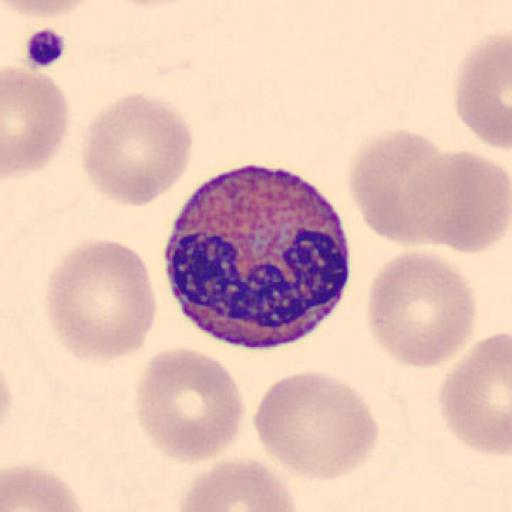RBC: (43, 237, 158, 362), (252, 370, 380, 482), (365, 249, 478, 370), (80, 91, 194, 208), (134, 346, 246, 464), (346, 129, 448, 246), (405, 148, 512, 254), (438, 330, 512, 458), (2, 65, 71, 180), (452, 32, 512, 150), (176, 457, 300, 512), (1, 464, 90, 512), (2, 0, 100, 20)
WBC: (162, 161, 351, 350)
